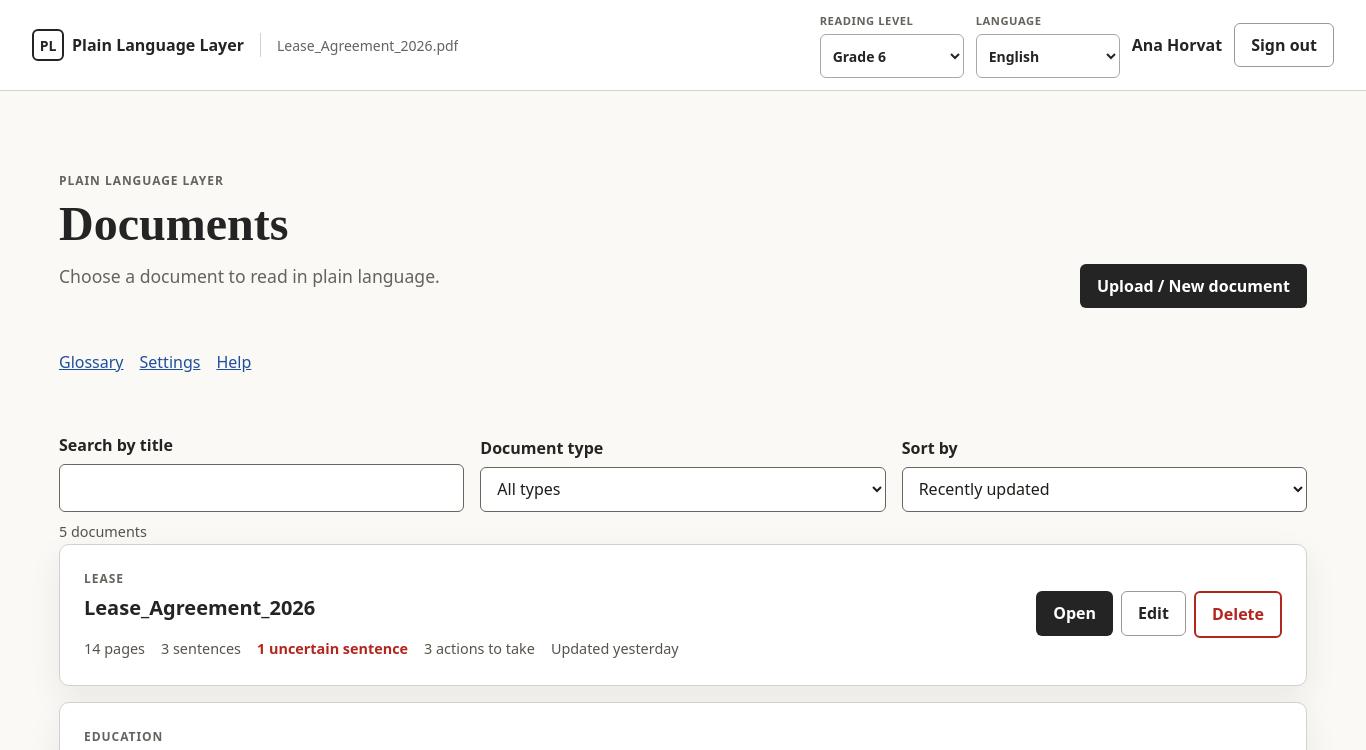
Test: documents list (screens 04 / 06) › create: validates empty fields, focuses the first error, then saves
Expected: the heading "Lease_Agreement_2026" is shown, [84, 594, 315, 621]
Click the button "Upload / New document": (1193, 286) [1080, 264, 1307, 308]
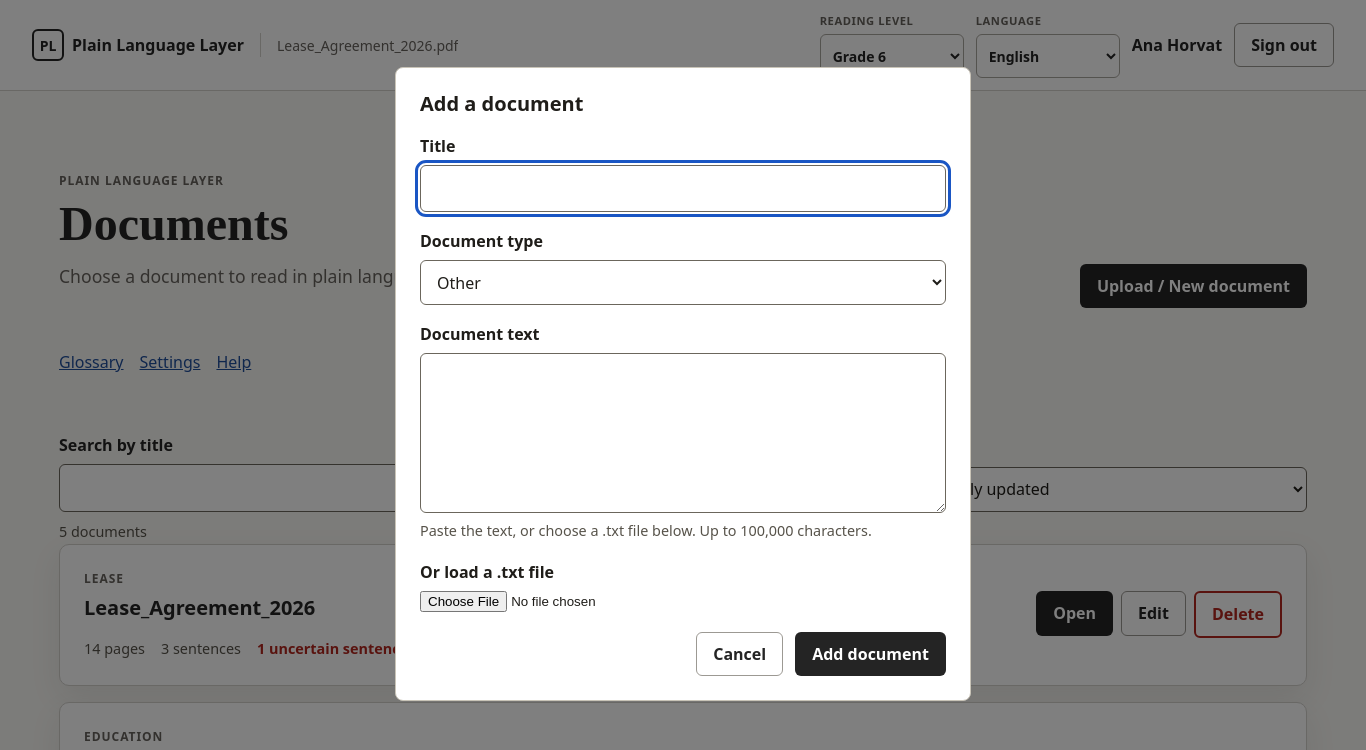
Click the button "Add document": (871, 654) [795, 632, 946, 676]
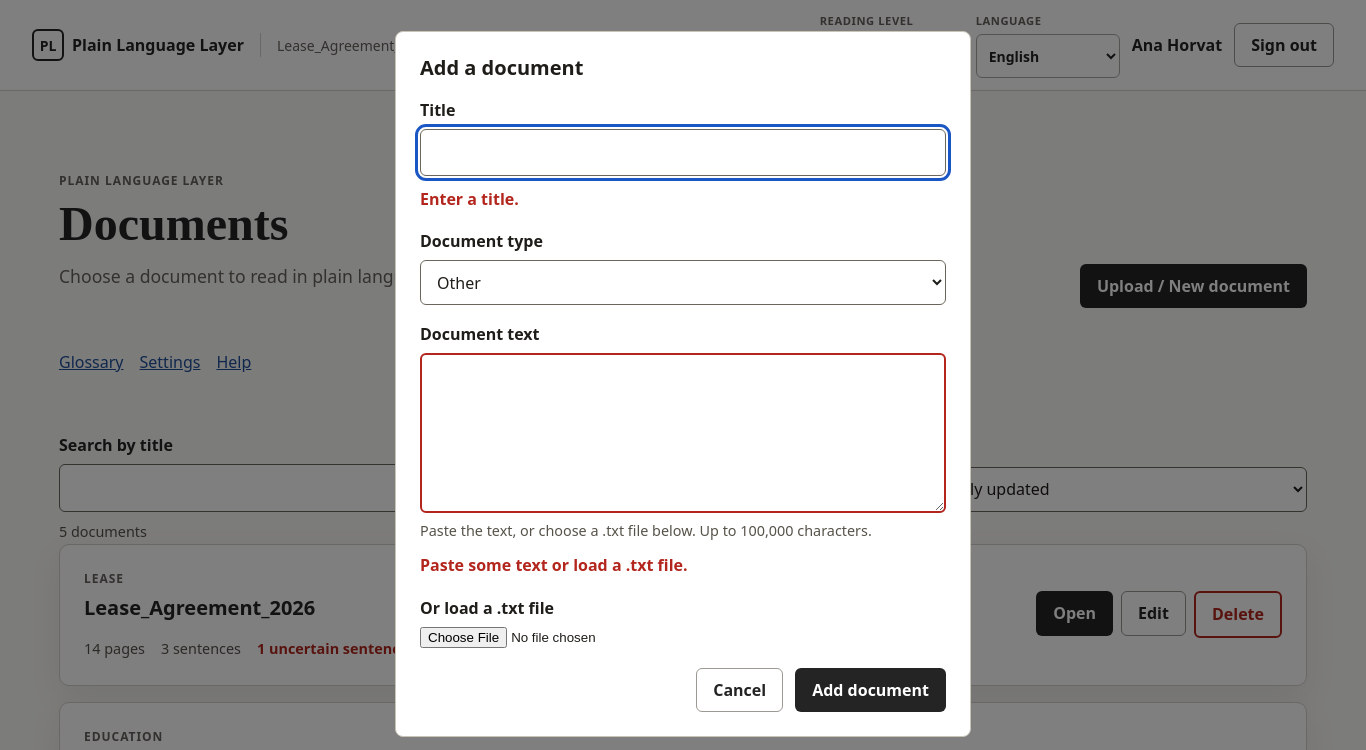
Expected: the text "Enter a title." is shown, [420, 188, 519, 210]
Expected: the text "Paste some text or load a .txt file." is shown, [420, 554, 688, 576]
In the field labelled "Title": (683, 152) [420, 129, 946, 176], type "Rješenje o boravku"
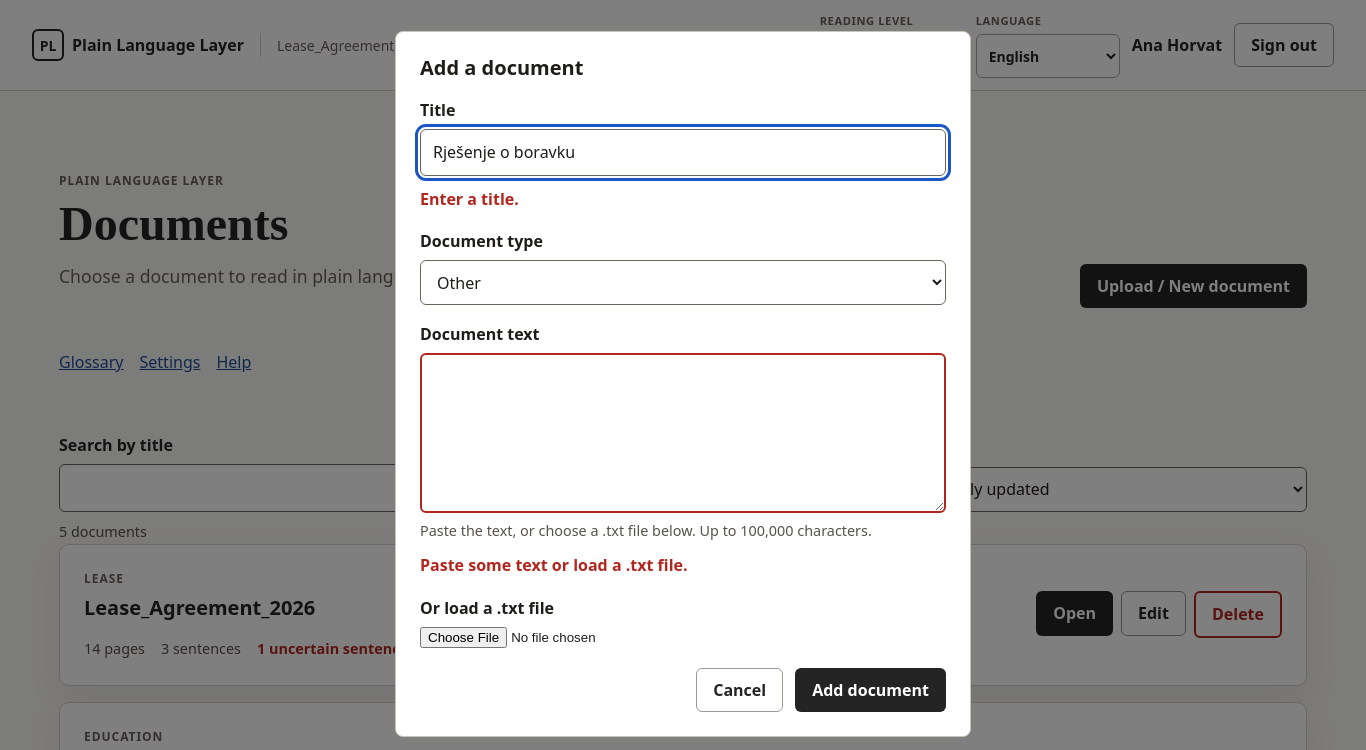
In the text box labelled "Document text": (683, 433) [420, 353, 946, 513], type "Prva rečenica."
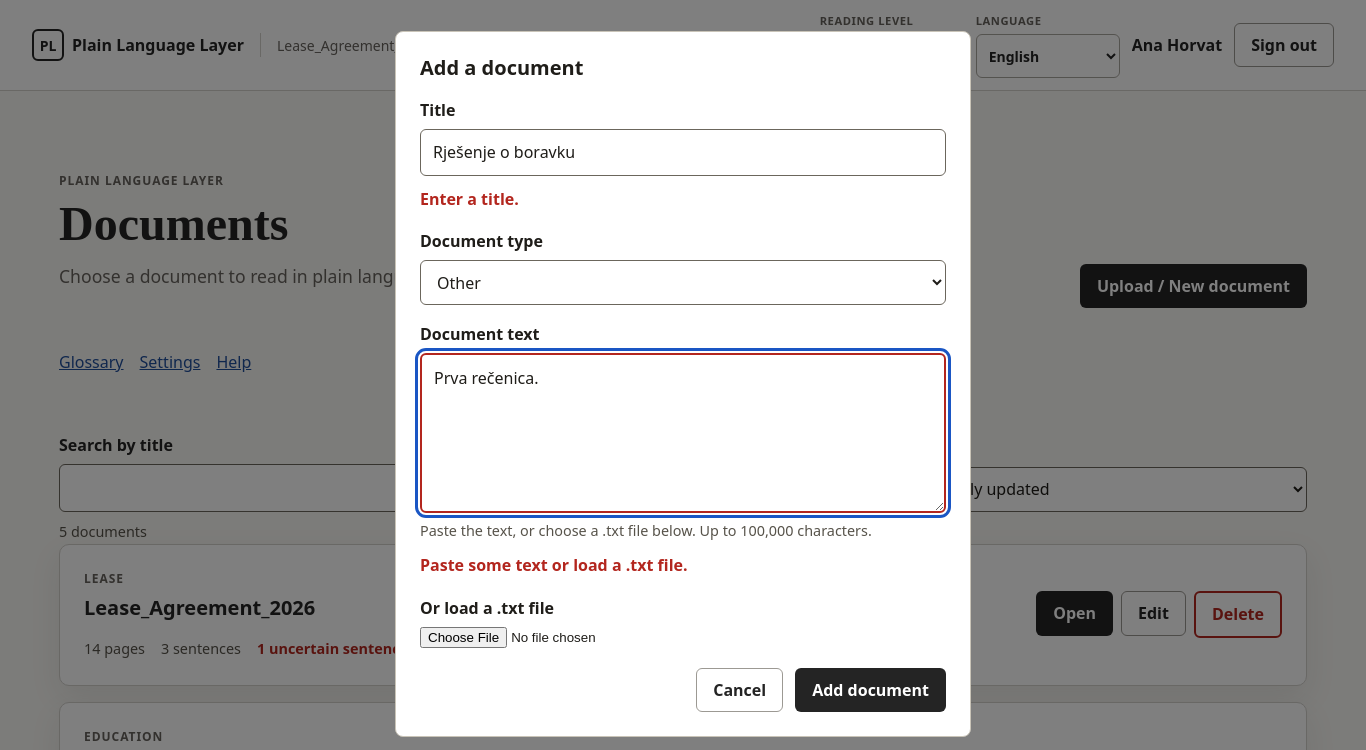
Click the button "Add document": (871, 690) [795, 668, 946, 712]
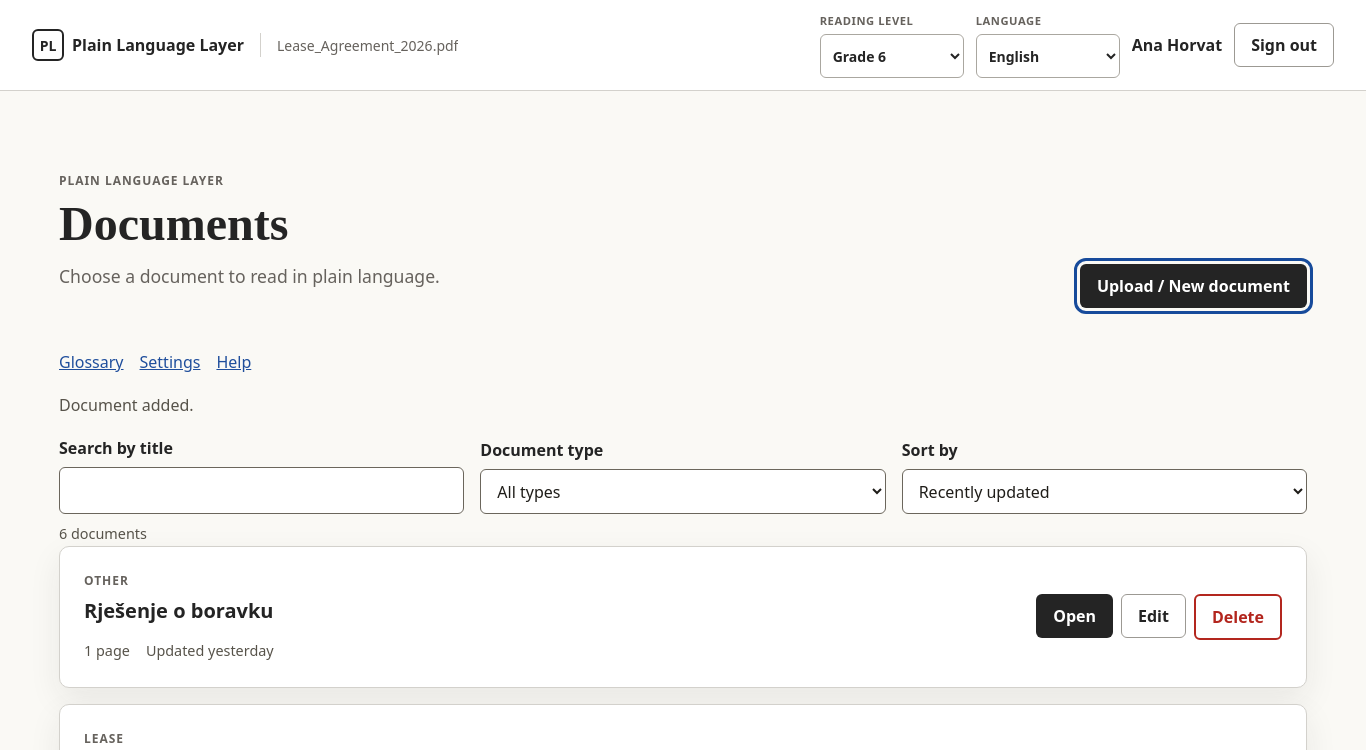
Expected: the text "Document added." is shown, [59, 394, 194, 416]
Expected: the heading "Rješenje o boravku" is shown, [84, 599, 274, 623]
